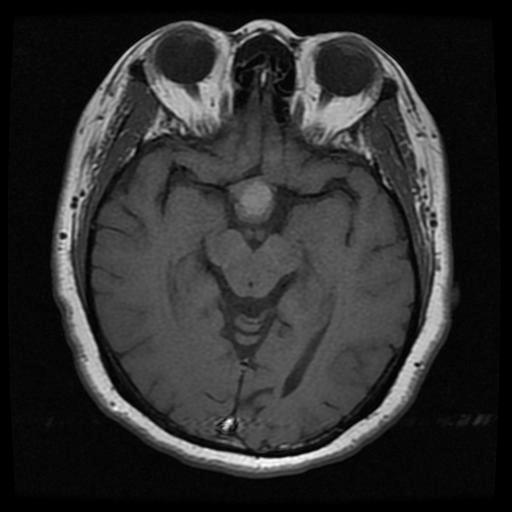Tumour-Pituitary: (229, 172, 280, 230)
